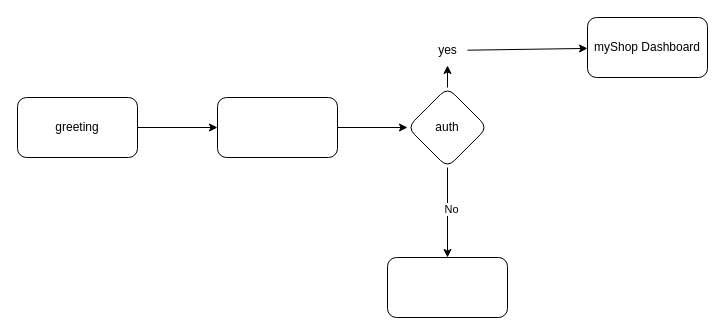
The diagram is 725 pixels wide and 335 high, and some of its shapes have lost their labels. Each missing label, with the box of its shape:
all shows Ranking shop best seller: (216, 96, 338, 158)
LoginPage: (386, 256, 508, 318)
